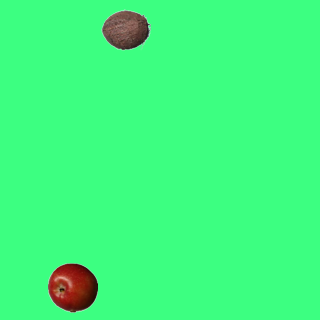Apple Braeburn: (47, 262, 97, 312)
Cocos: (100, 4, 150, 54)
